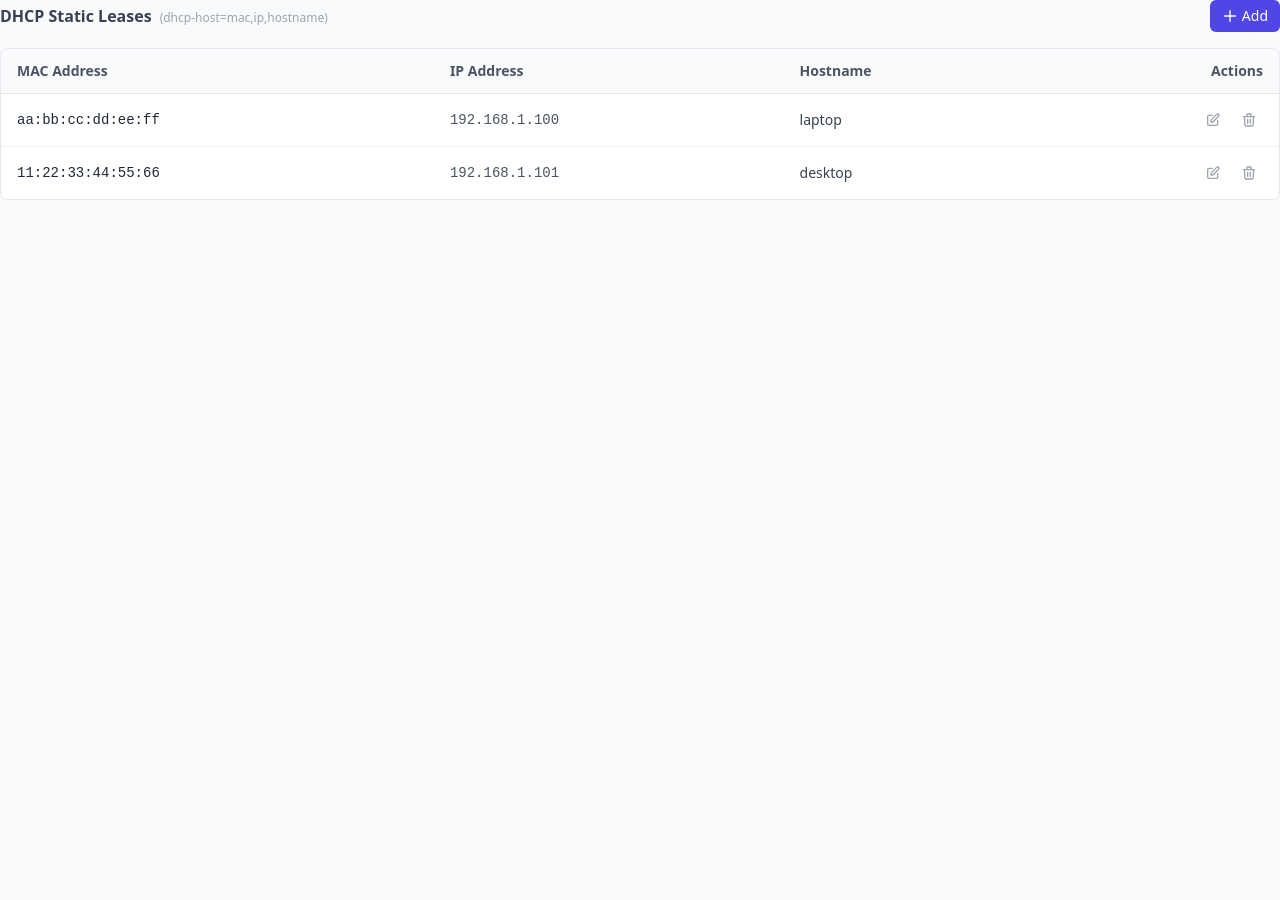
Test: DhcpTable › opens Edit modal with pre-filled values
expect the text "laptop" is shown: met, box [784,94,1041,146]
Click the button named "Edit laptop" at (1213,120), box [1199,106,1227,134]
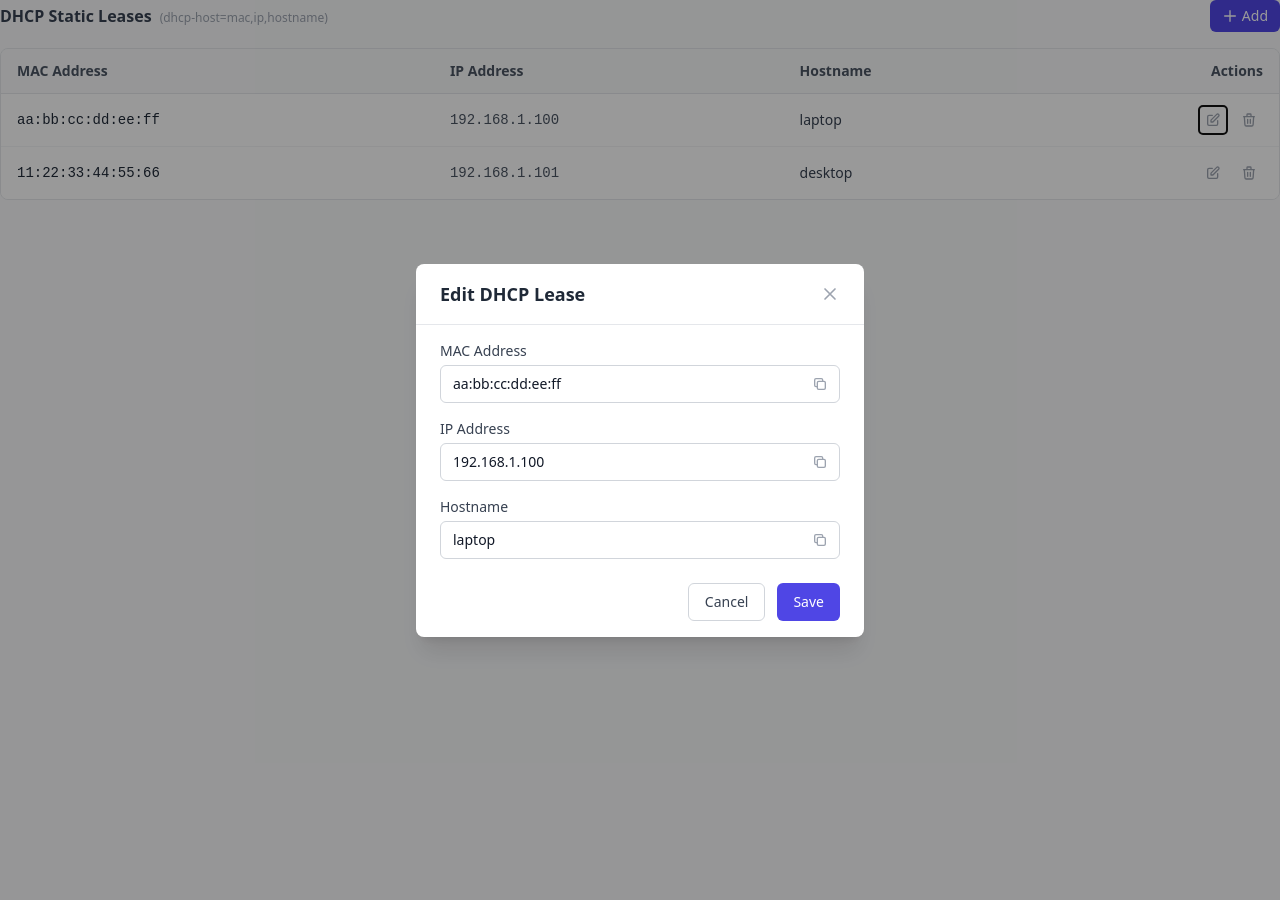
expect the heading "Edit DHCP Lease" is shown: met, box [440,280,585,308]
expect the field showing "aa:bb:cc:dd:ee:ff" is shown: met, box [440,364,840,402]
expect the field showing "192.168.1.100" is shown: met, box [440,442,840,480]
